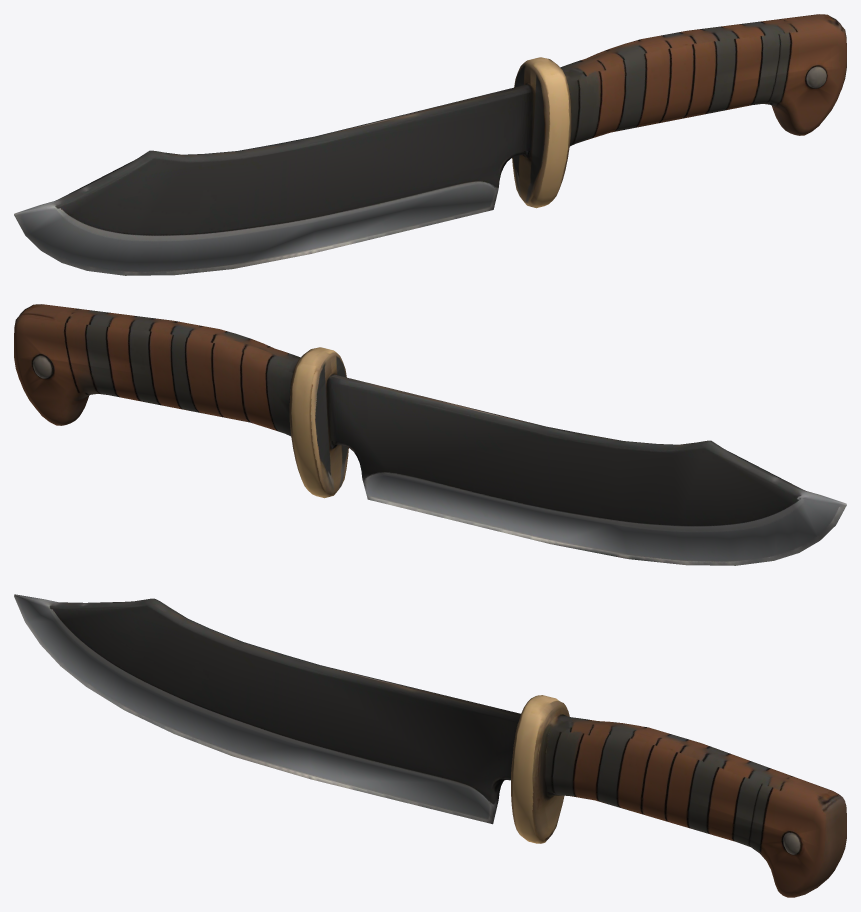
File: machete_2dab895b_v4.glb
The picture shows the model from 3 angles, top to bottom: view 1: azimuth 30°, elevation 25°; view 2: azimuth 150°, elevation 25°; view 3: azimuth 330°, elevation 25°; orthographic projection.
Parts seen in each view (by area): view 1: texture_pbr_20250901; view 2: texture_pbr_20250901; view 3: texture_pbr_20250901.
Boxes of the visible parts, x1,y1,x2,y2 form: texture_pbr_20250901: (14, 14, 846, 275); texture_pbr_20250901: (14, 304, 846, 565); texture_pbr_20250901: (14, 594, 846, 897).
Size of the model in its own units: 1.9 by 0.3282 by 0.1484.
Materials: 1 (1 with a texture image).
